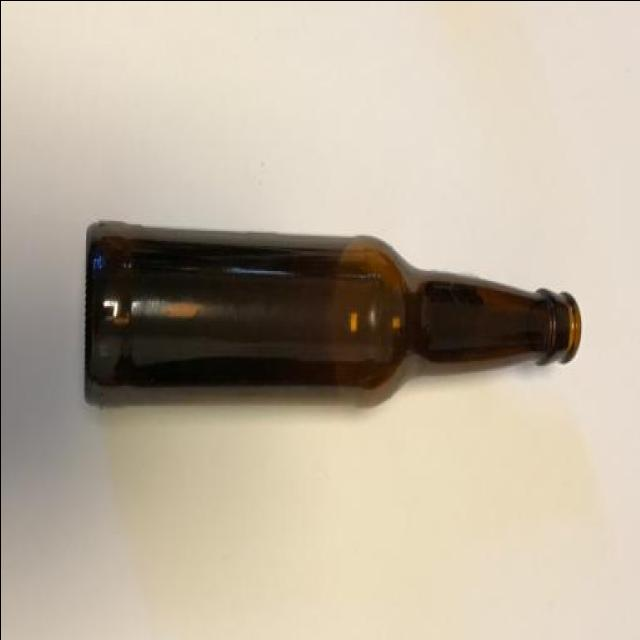glass: (84, 221, 582, 398)
